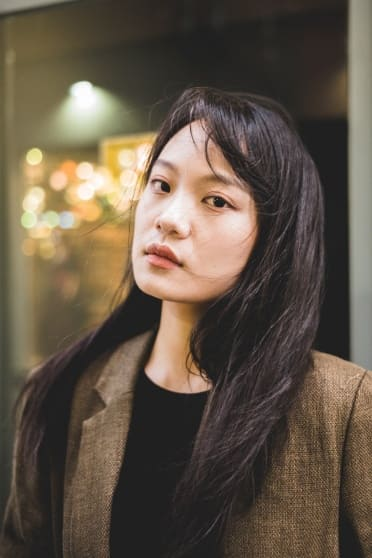person: (0, 90, 372, 558)
